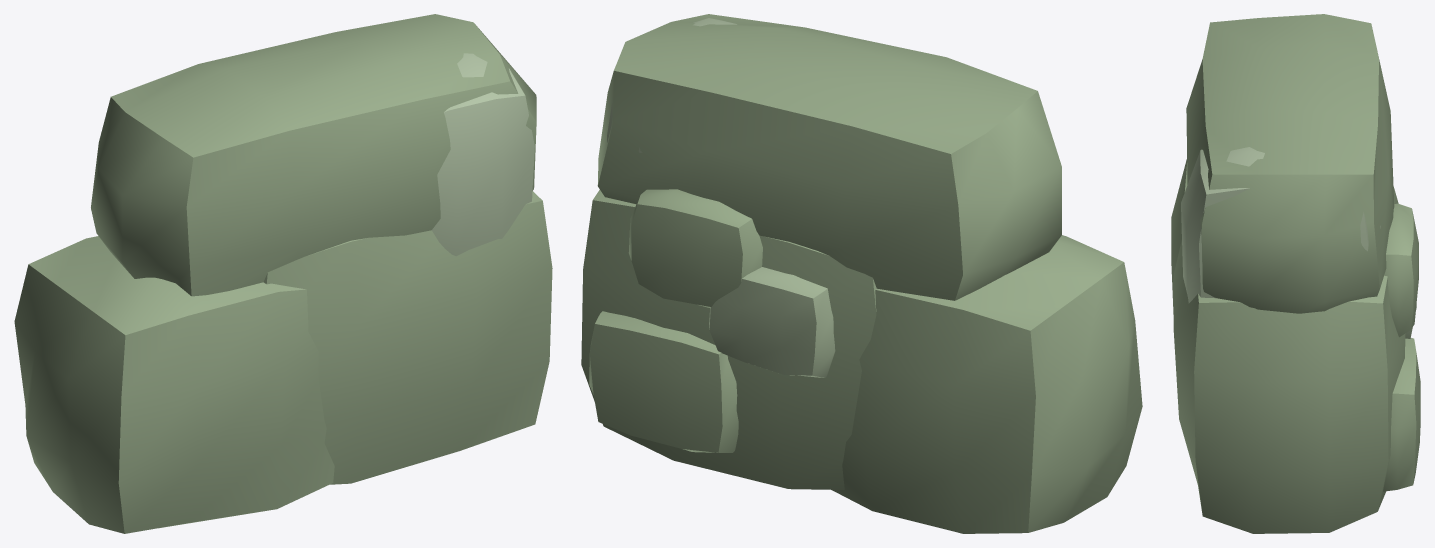
Rendered from fagyal-soveny2-2m.glb.
3 renders of one model, left to right at view 1: azimuth 30°, elevation 25°; view 2: azimuth 150°, elevation 25°; view 3: azimuth 270°, elevation 25°, orthographic. The views are drawn at different scales.
Parts seen in each view (by area): view 1: blokk-felso-1, blokk-also-1, blokk-also-2, blokk-felso-2; view 2: blokk-felso-1, blokk-also-1, blokk-also-2, dudor-1, dudor-2, dudor-3; view 3: blokk-felso-1, blokk-also-2, blokk-felso-2, dudor-1, dudor-2, blokk-also-1.
Boxes of the visible parts, x1,y1,x2,y2 form: blokk-felso-1: [91, 14, 536, 296]; blokk-also-1: [14, 236, 334, 533]; blokk-also-2: [263, 191, 552, 484]; blokk-felso-2: [431, 53, 534, 256]; blokk-felso-1: [597, 14, 1061, 300]; blokk-also-1: [831, 235, 1142, 533]; blokk-also-2: [581, 189, 876, 489]; dudor-1: [589, 311, 738, 452]; dudor-2: [628, 189, 762, 307]; dudor-3: [709, 267, 835, 377]; blokk-felso-1: [1186, 14, 1394, 313]; blokk-also-2: [1173, 240, 1405, 533]; blokk-felso-2: [1181, 147, 1380, 303]; dudor-1: [1383, 338, 1420, 491]; dudor-2: [1384, 203, 1418, 337]; blokk-also-1: [1171, 159, 1398, 314].
Size of the model in its own units: 2.39 by 1.89 by 1.1.
